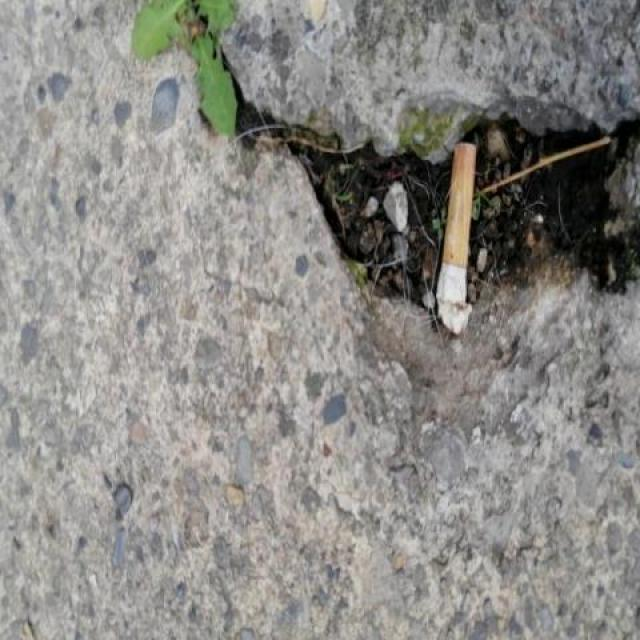non-organic waste: (431, 129, 478, 343)
